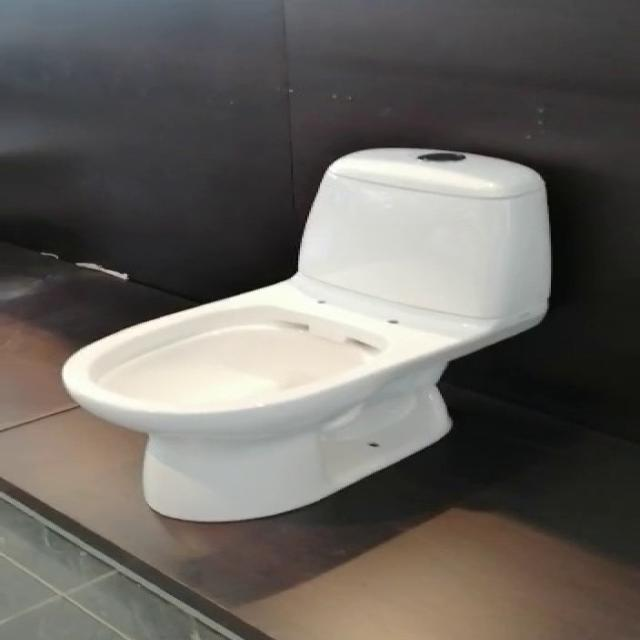toilet: (60, 145, 553, 523)
